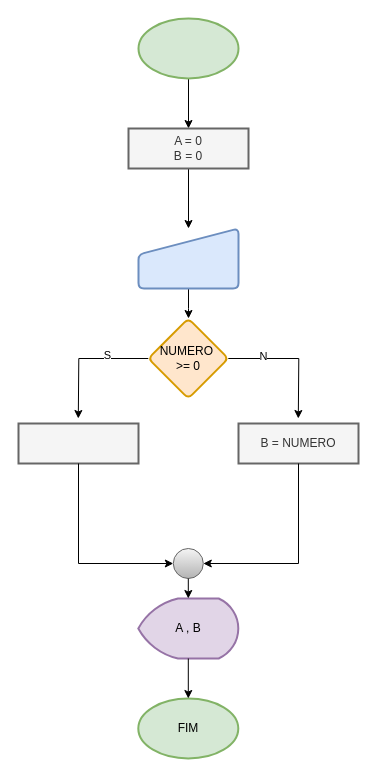
The diagram is 376 pixels wide and 776 high, and some of its shapes have lost their labels. The shapes that lost their labels are listed below. From the top down, each one's centre as x and y in pixels, then its label:
At point 188,48: "INICIO".
At point 188,258: "NUMERO".
At point 78,443: "A = NUMERO".
